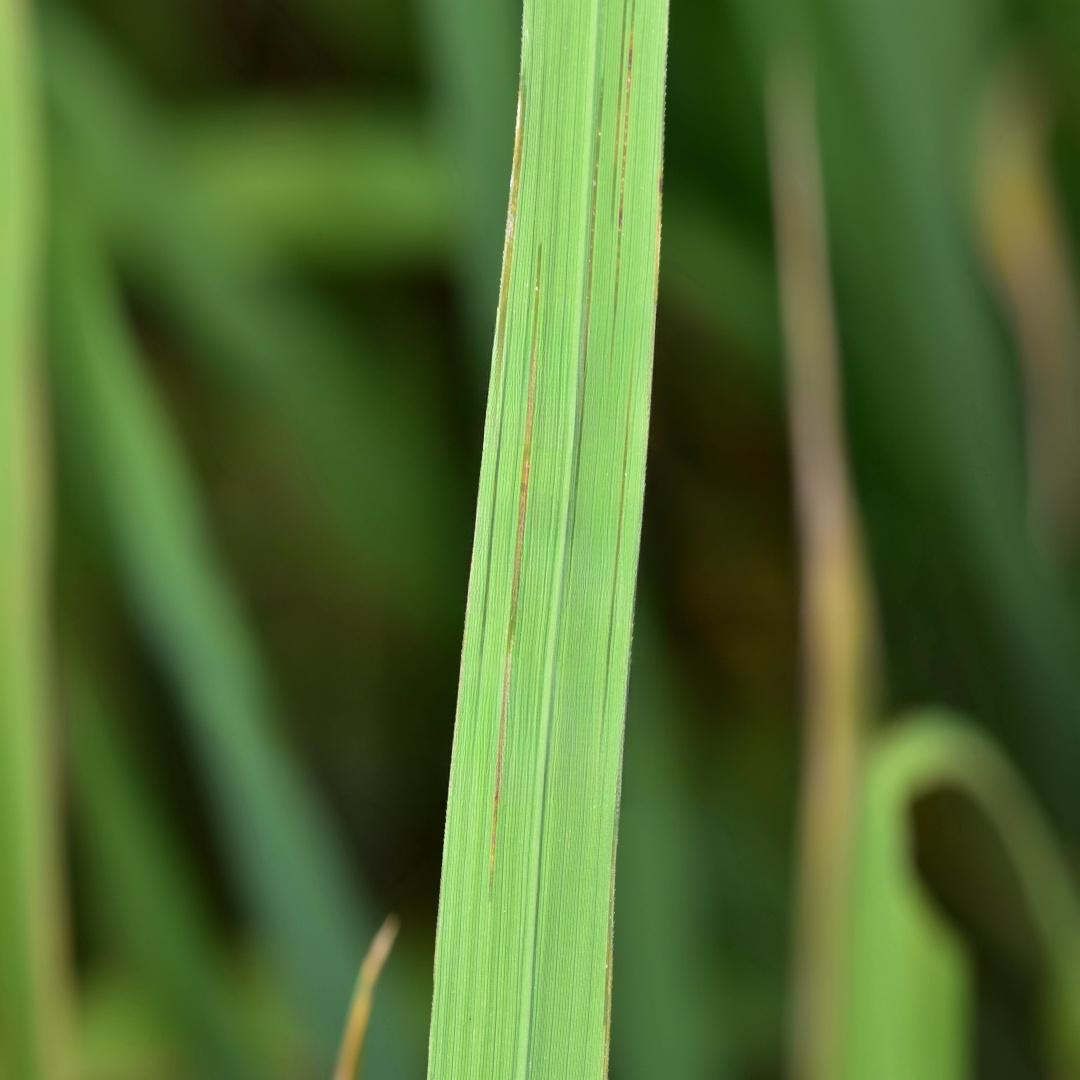BLS: (490, 246, 539, 893), (498, 74, 527, 399), (606, 352, 632, 685), (613, 0, 635, 351), (604, 734, 624, 1078), (585, 82, 605, 381), (613, 0, 627, 189), (654, 170, 663, 320)
LEAF: (428, 0, 667, 1079)
